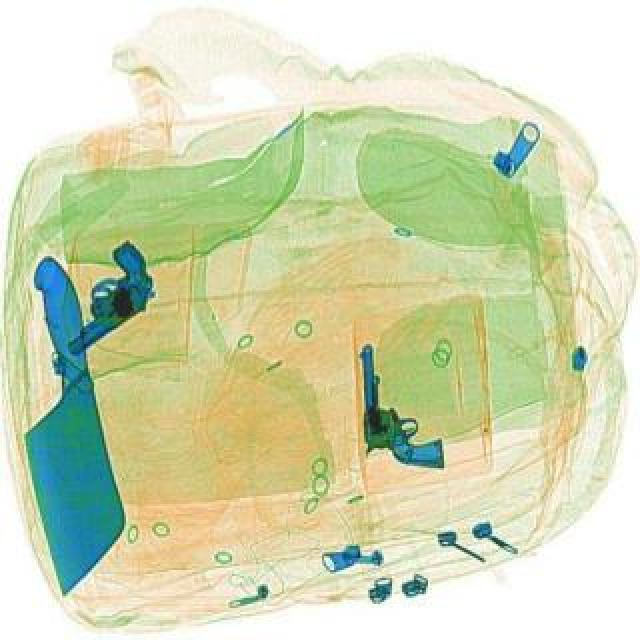gun: (28, 234, 172, 356), (356, 336, 444, 470)
knife: (0, 256, 136, 594)
